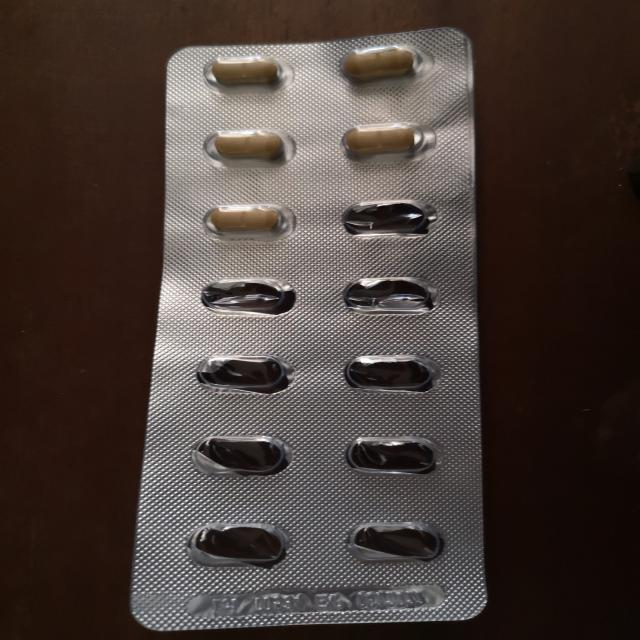Empty: (178, 518, 298, 570), (179, 430, 301, 481), (335, 518, 452, 568), (332, 349, 448, 397), (189, 349, 298, 398), (338, 432, 445, 481), (335, 194, 440, 242), (194, 275, 303, 319), (337, 275, 447, 318)
Pill: (196, 198, 301, 245), (194, 125, 302, 170), (335, 120, 435, 163), (334, 42, 430, 86), (196, 52, 298, 93)
